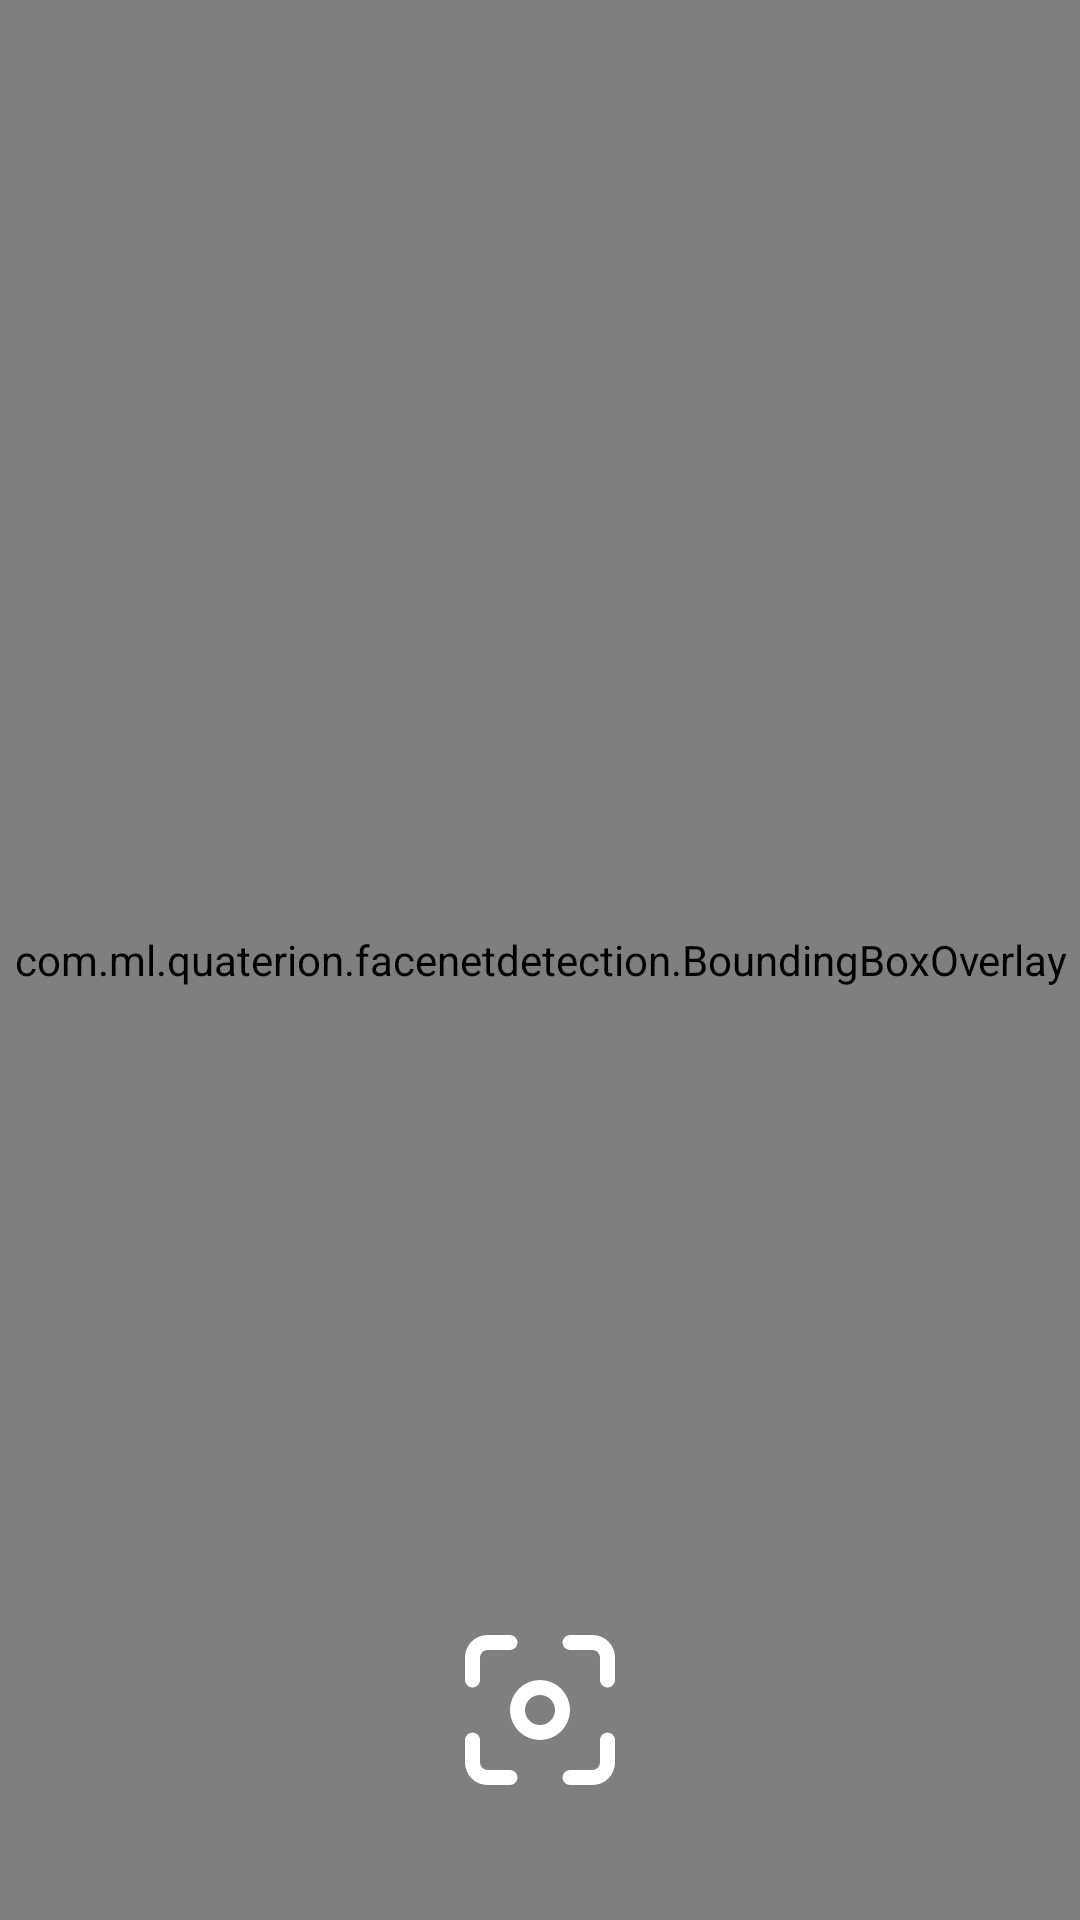

Screen size 1080*1920. Icon name, then its box in pixels as bbox=[x1, y1, x2, y2]:
capture: bbox=[465, 1635, 615, 1785]
